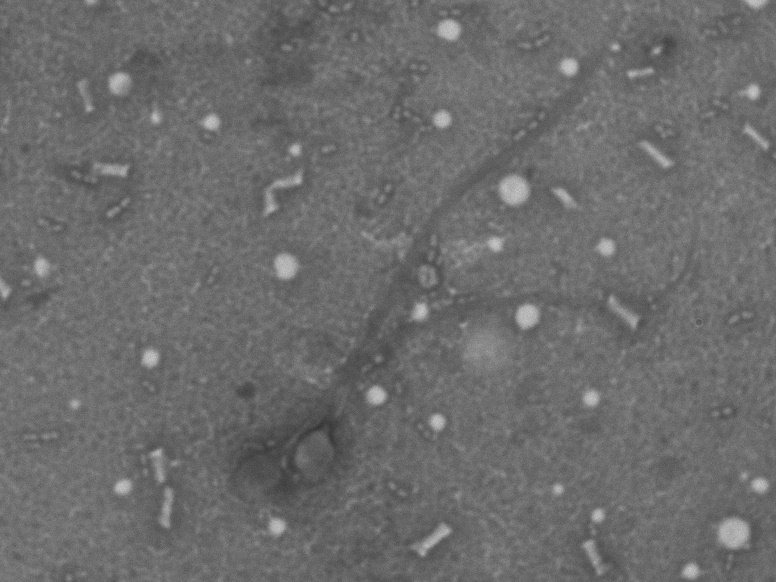Abnormal: (125, 222, 681, 533)
